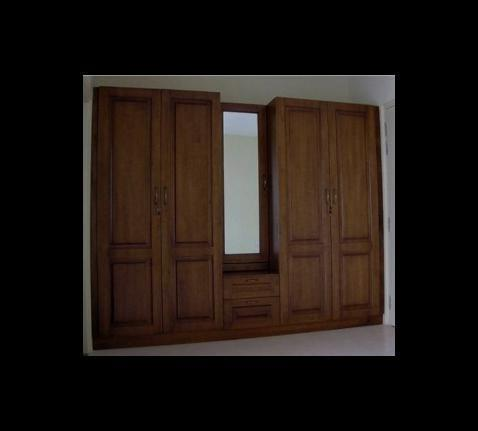Armario: (94, 80, 382, 343)
